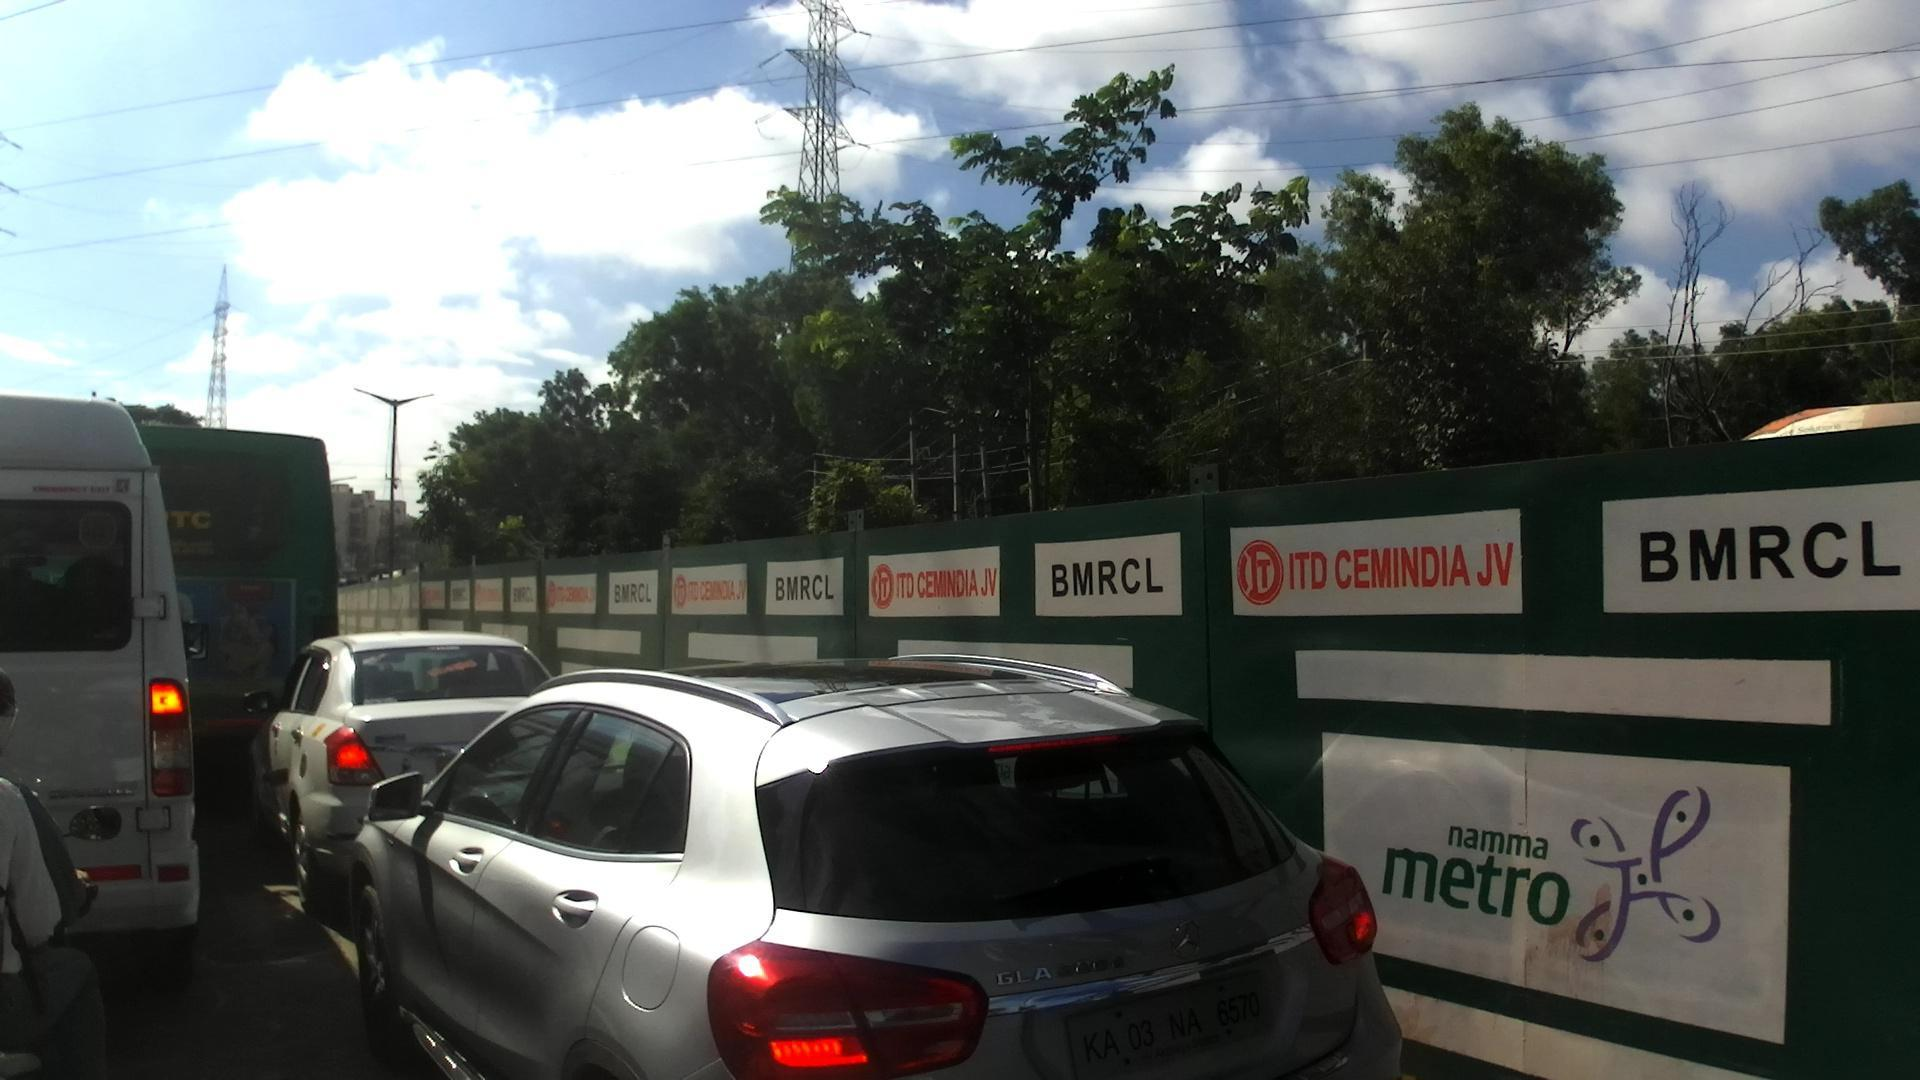off: (0, 0, 1862, 1067)
